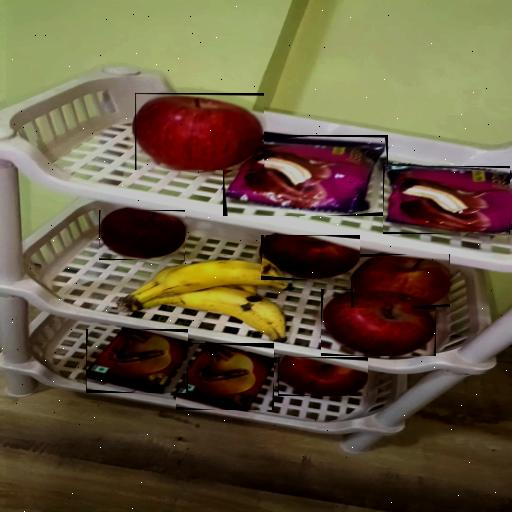Apple: (135, 93, 264, 170), (321, 289, 436, 356), (351, 254, 450, 307), (261, 236, 360, 282), (99, 210, 185, 260), (278, 357, 368, 396)
Choco Fills: (176, 343, 274, 410), (86, 329, 188, 393)
Choco Pie: (223, 135, 388, 216), (383, 166, 510, 234)
